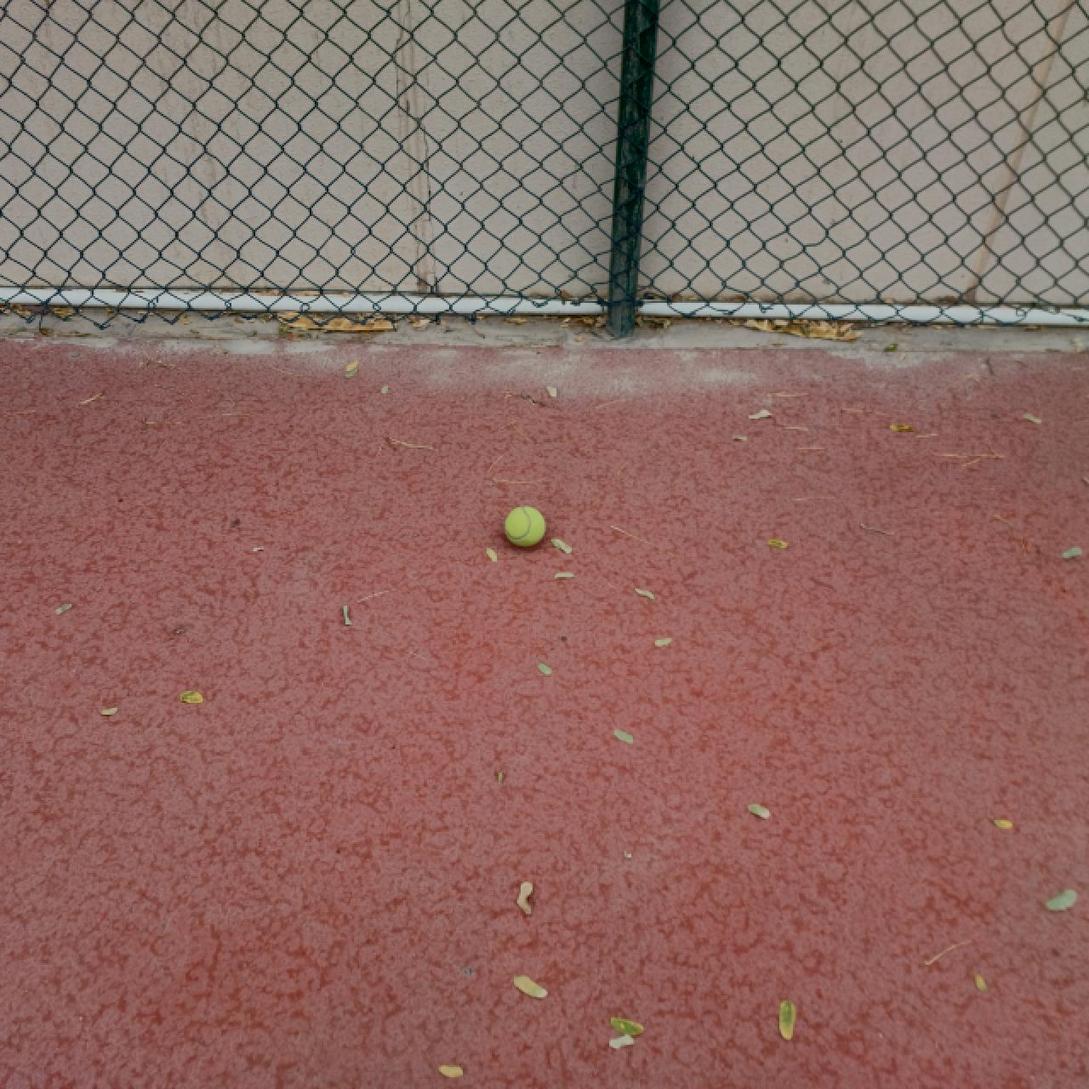tennis-ball: (503, 506, 546, 549)
